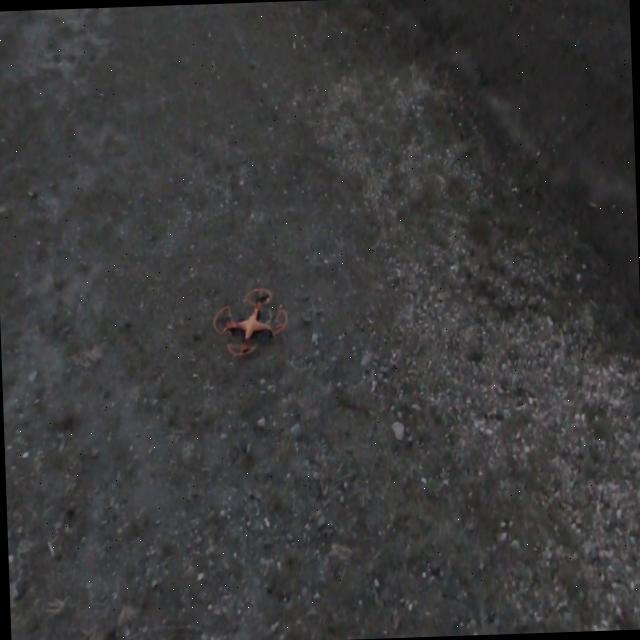Drons: (208, 284, 290, 360)
